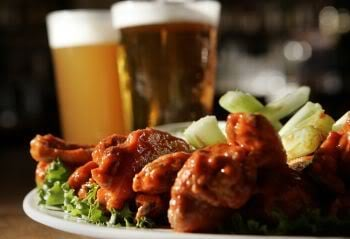pizza: (112, 1, 222, 133)
